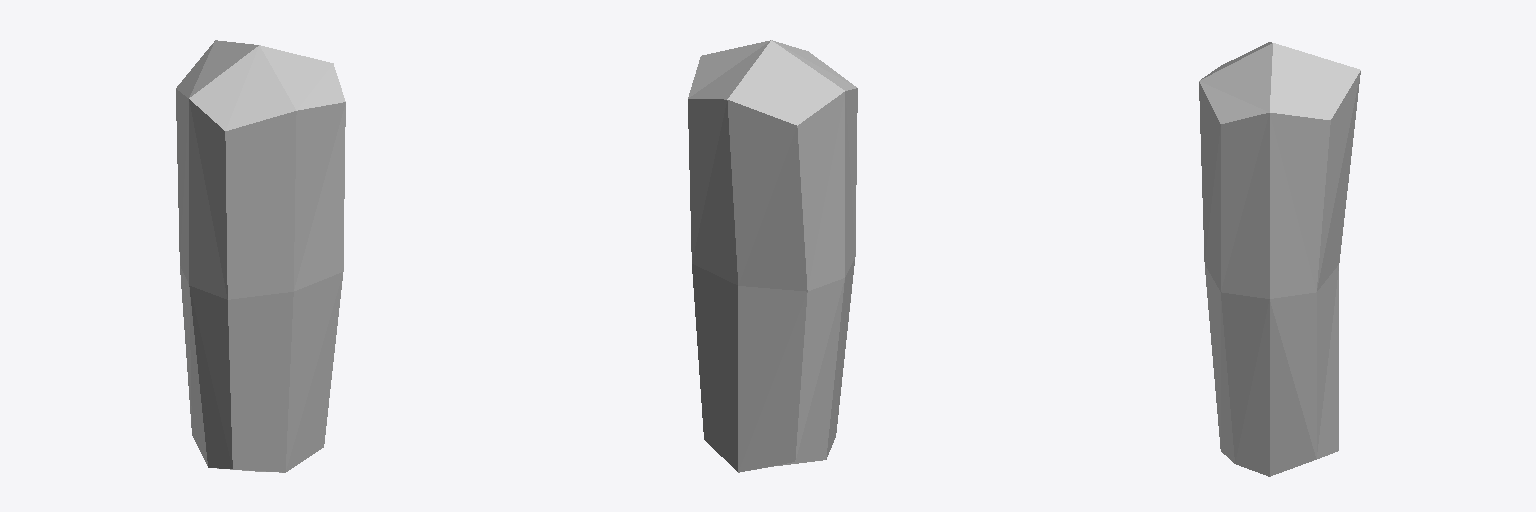
Rendered from regMomoLeft.obj.
3 views of the same model, side by side, from view 1: azimuth 30°, elevation 25°; view 2: azimuth 150°, elevation 25°; view 3: azimuth 270°, elevation 25° (orthographic).
Visible parts, largest first — view 1: pasted__pCube7 group13; view 2: pasted__pCube7 group13; view 3: pasted__pCube7 group13.
Part boxes in pixels (left/top/right/bottom): pasted__pCube7 group13: left=176, top=40, right=345, bottom=472; pasted__pCube7 group13: left=688, top=40, right=857, bottom=472; pasted__pCube7 group13: left=1199, top=42, right=1360, bottom=476.
Size of the model in its own units: 4.9 by 13.81 by 4.76.